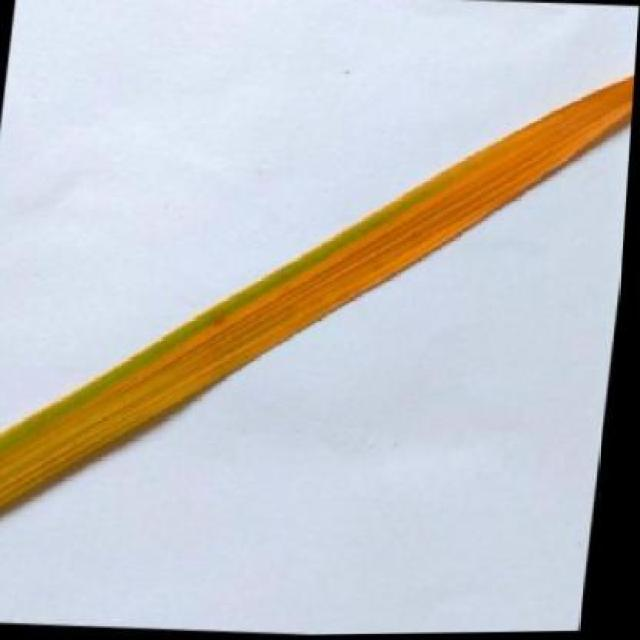Rice False Smut: (0, 35, 638, 576)
